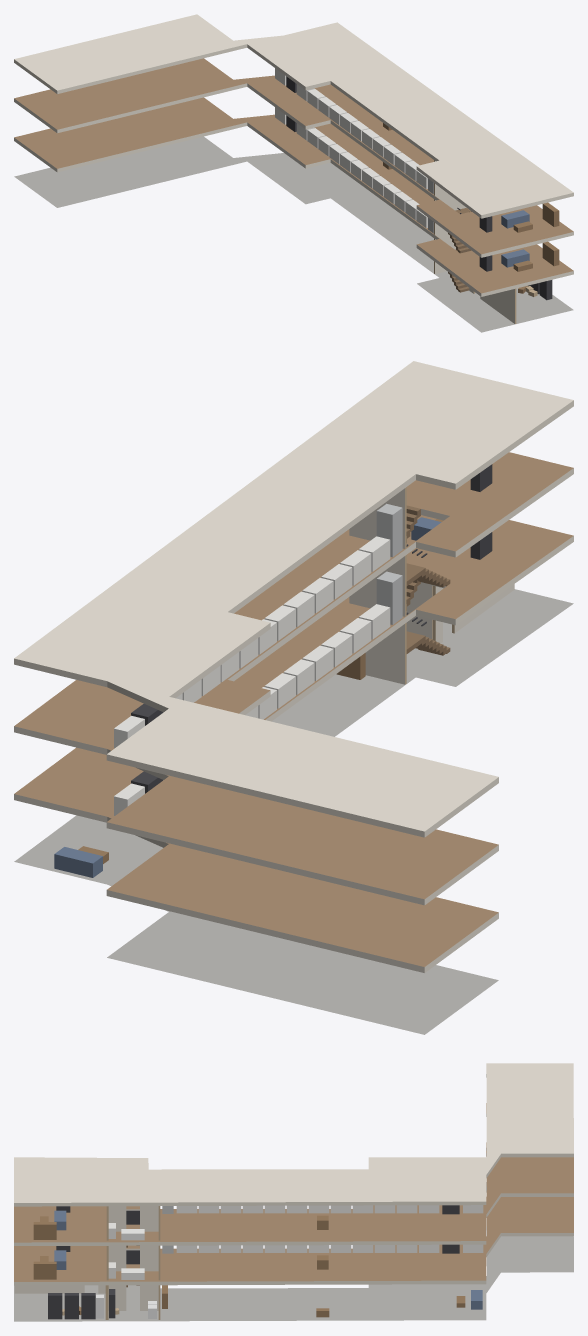
Rendered from interior.glb.
3 views of the same model, one above another, from view 1: azimuth 30°, elevation 25°; view 2: azimuth 150°, elevation 25°; view 3: azimuth 270°, elevation 25° (orthographic). The views are drawn at different scales.
Visible parts, largest first — view 1: slabs, coarse-s1, coarse-s2, partitions, coarse-s0, stair; view 2: slabs, coarse-s2, coarse-s1, partitions, stair, coarse-s0; view 3: slabs, coarse-s2, coarse-s1, partitions, coarse-s0, stair.
Part boxes in pixels (x1=…): slabs: x1=14, y1=14, x2=573, y2=332; coarse-s1: x1=275, y1=107, x2=559, y2=271; coarse-s2: x1=275, y1=68, x2=559, y2=232; partitions: x1=434, y1=160, x2=516, y2=323; coarse-s0: x1=518, y1=280, x2=552, y2=300; stair: x1=448, y1=207, x2=471, y2=292; slabs: x1=14, y1=361, x2=573, y2=1034; coarse-s2: x1=114, y1=464, x2=492, y2=748; coarse-s1: x1=114, y1=517, x2=492, y2=815; partitions: x1=349, y1=487, x2=514, y2=684; stair: x1=406, y1=505, x2=450, y2=655; coarse-s0: x1=54, y1=653, x2=365, y2=877; slabs: x1=14, y1=1063, x2=573, y2=1321; coarse-s2: x1=33, y1=1205, x2=483, y2=1240; coarse-s1: x1=33, y1=1244, x2=483, y2=1279; partitions: x1=14, y1=1206, x2=160, y2=1319; coarse-s0: x1=48, y1=1285, x2=482, y2=1319; stair: x1=126, y1=1210, x2=139, y2=1287.
Size of the model in its own units: 21.78 by 8.65 by 36.9.
